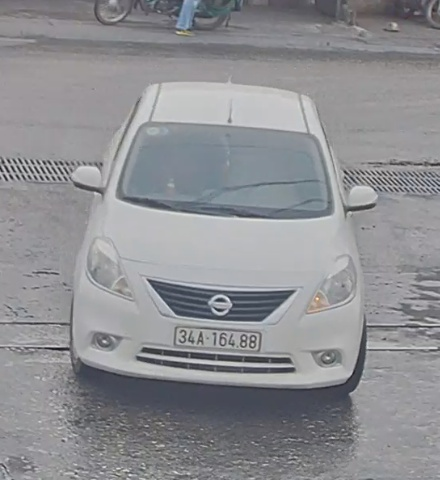vehicle plate: (171, 319, 265, 355)
